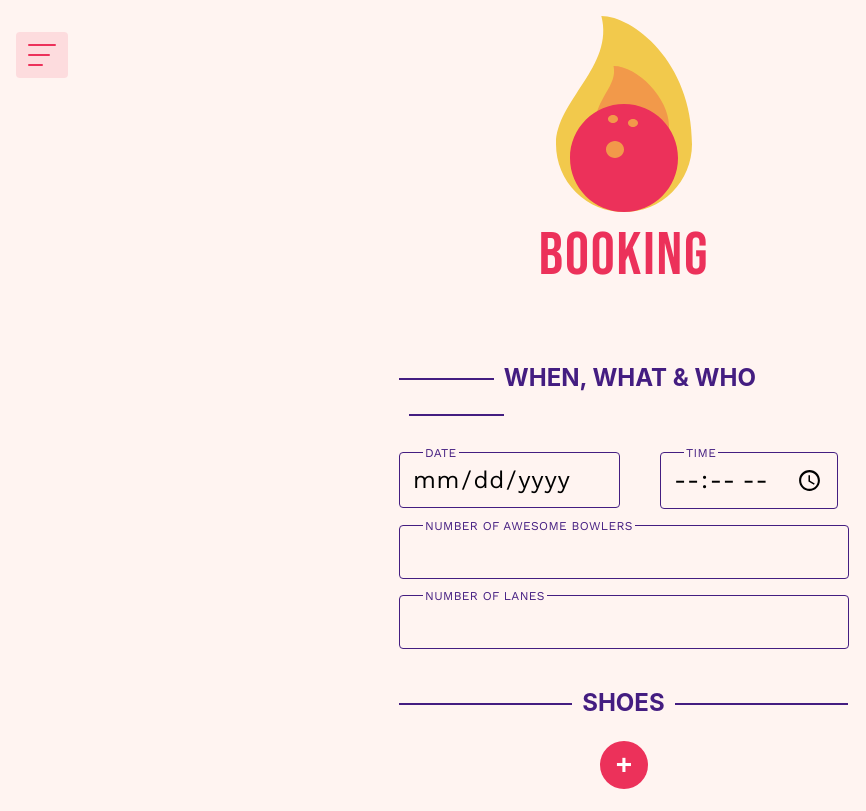
App › should remove shoe size after clicking the (-) button
What coordinates should you click on to do the following:
click the button "+"
I would click on:
 (624, 765)
Its box is x1=600 y1=741 x2=648 y2=789.
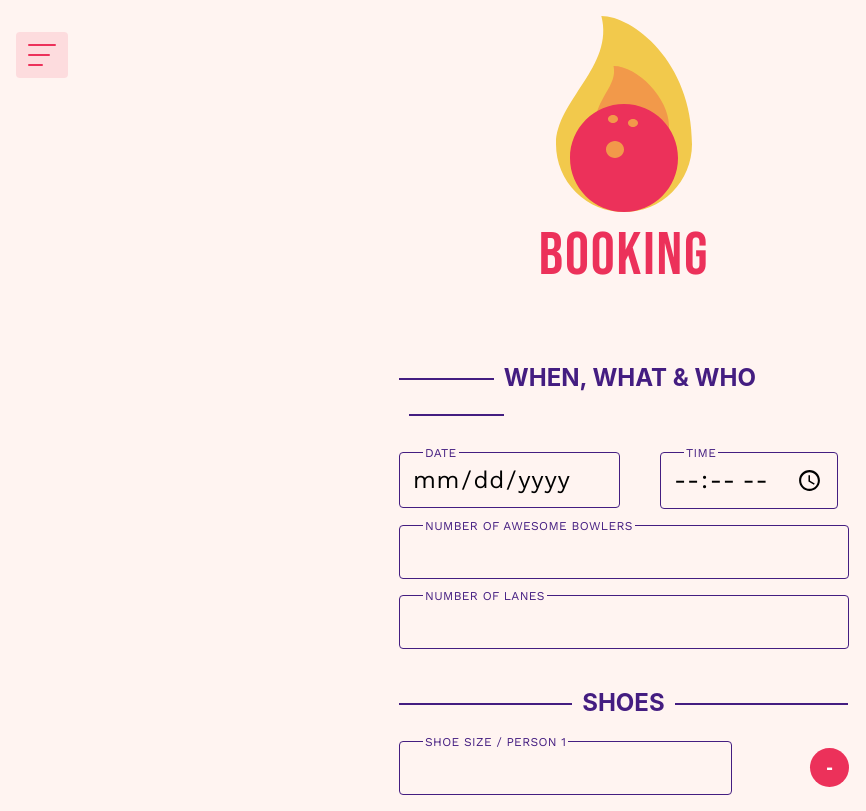
What coordinates should you click on to do the following:
click the button "-"
I would click on:
 (830, 768)
Its box is x1=810 y1=748 x2=849 y2=787.
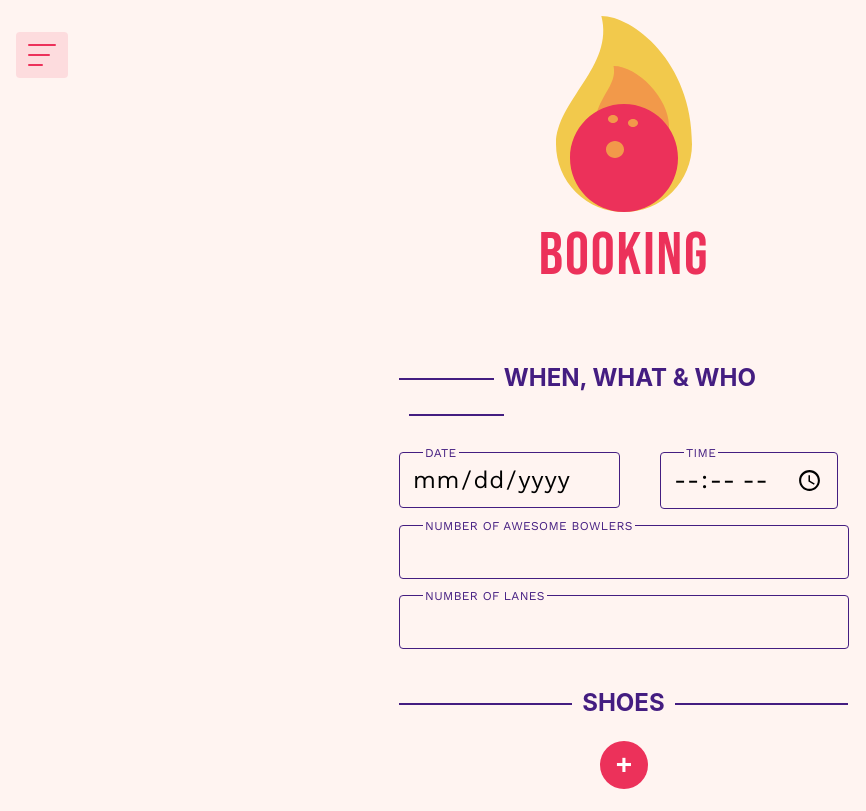
Expected: the label labelled "Shoe size" is gone
